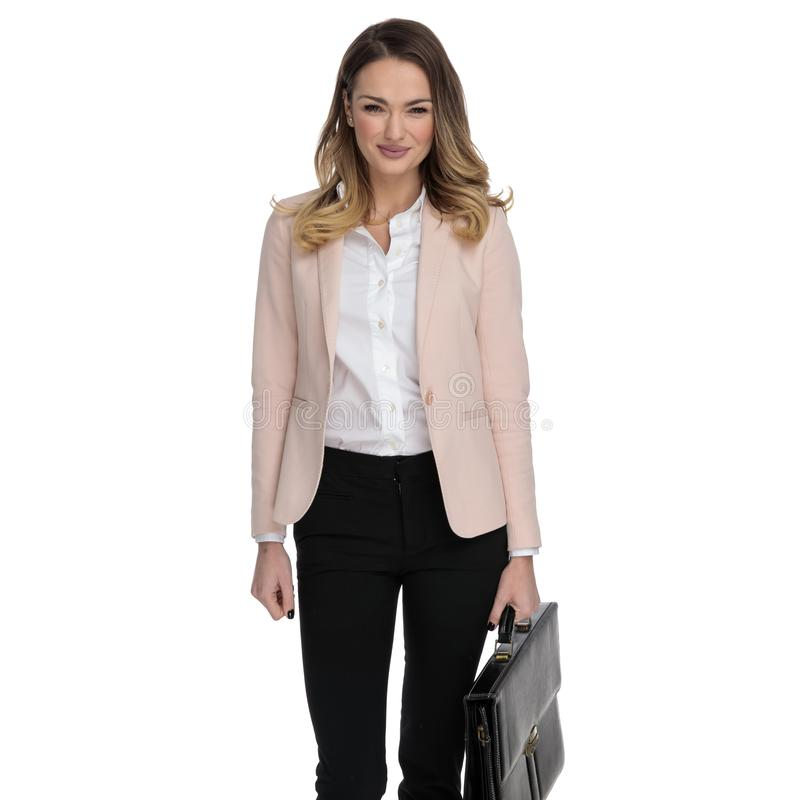F_W_suit jacket: (215, 165, 554, 539)
